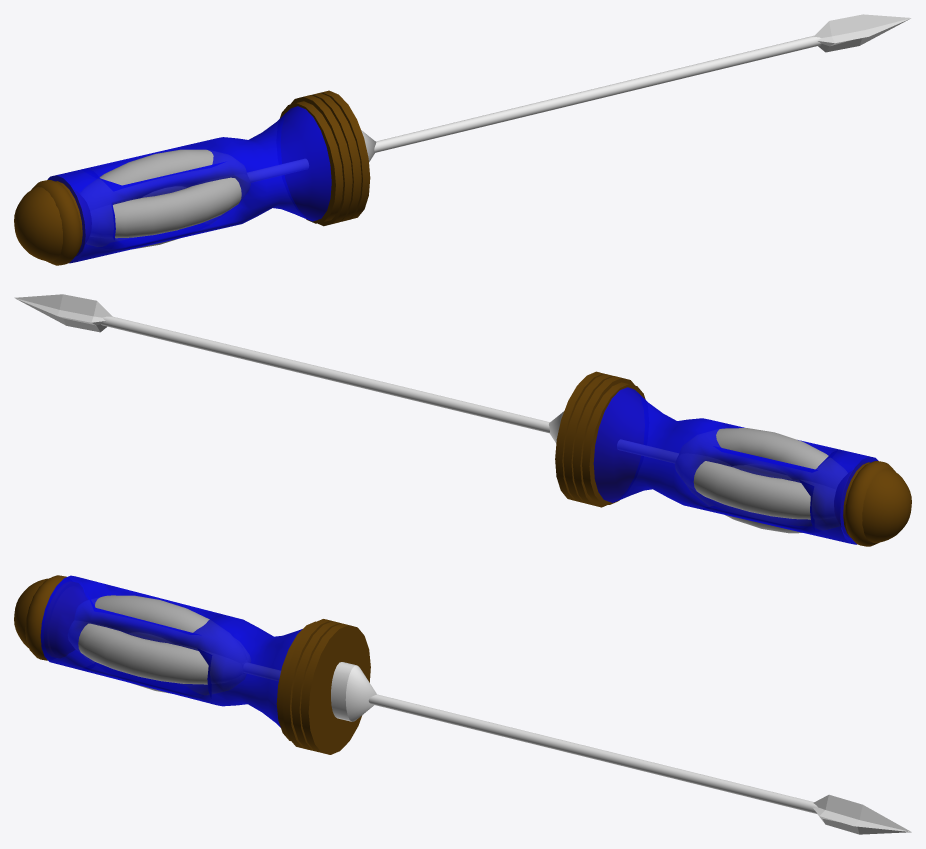
Rendered from ScrewDriver.fbx.
3 renders of one model, top to bottom at view 1: azimuth 30°, elevation 25°; view 2: azimuth 150°, elevation 25°; view 3: azimuth 330°, elevation 25°, orthographic.
Visible parts, largest first — view 1: pCylinder1, pCylinder3, pCylinder4, pTorus3, pTorus4, pSphere1, pSphere2, pTorus1, pCylinder5, pCylinder7, pCylinder6; view 2: pCylinder1, pCylinder3, pTorus3, pTorus4, pCylinder4, pSphere1, pSphere2, pTorus1, pCylinder5, pCylinder7, pCylinder6; view 3: pCylinder1, pTorus3, pCylinder3, pTorus4, pCylinder7, pSphere1, pSphere2, pCylinder8, pTorus1, pCylinder5, pCylinder6, pCylinder4.
Part boxes in pixels (x1,y1,x2,y2): pCylinder1: (47,106,331,263); pCylinder3: (248,35,821,181); pCylinder4: (280,101,361,223); pTorus3: (91,174,249,238); pTorus4: (80,149,246,249); pSphere1: (14,187,91,261); pSphere2: (813,14,911,52); pTorus1: (31,180,81,265); pCylinder5: (290,95,352,226); pCylinder7: (320,90,370,220); pCylinder6: (311,93,361,221); pCylinder1: (593,387,878,544); pCylinder3: (101,316,677,462); pTorus3: (675,454,835,519); pTorus4: (679,428,846,533); pCylinder4: (563,382,645,504); pSphere1: (834,468,911,542); pSphere2: (14,294,112,332); pTorus1: (845,461,895,546); pCylinder5: (573,376,634,507); pCylinder7: (555,371,604,501); pCylinder6: (564,374,613,503); pCylinder1: (40,575,302,727); pTorus3: (68,621,250,684); pCylinder3: (244,663,817,814); pTorus4: (75,595,246,694); pCylinder7: (301,623,370,754); pSphere1: (14,578,86,655); pSphere2: (813,794,911,834); pCylinder8: (331,662,376,721); pTorus1: (25,575,66,660); pCylinder5: (282,619,331,749); pCylinder6: (292,621,341,751); pCylinder4: (276,621,315,740).
Bounding box in the file's own units: 26.22 × 3.41 × 3.2.
